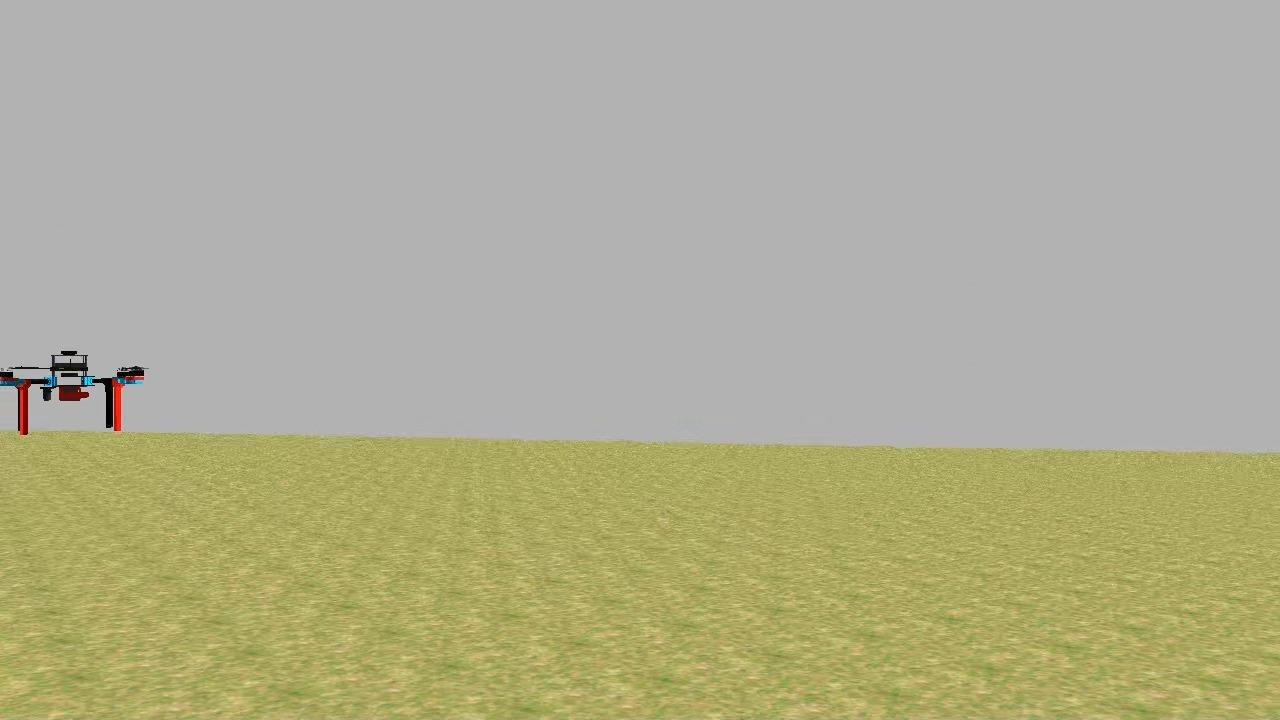UAV: (4, 342, 148, 440)
